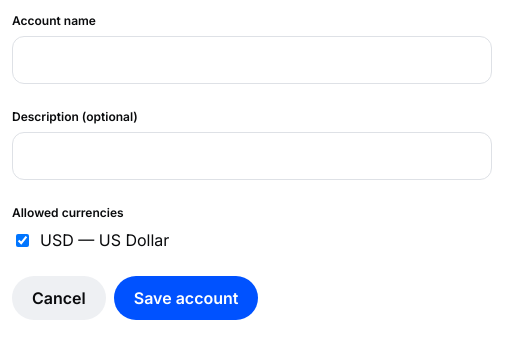
Test: AccountForm › requires account name on submit
The image size is (509, 363).
Click the button "Save account" at [186, 298], box x1=114 y1=276 x2=258 y2=320
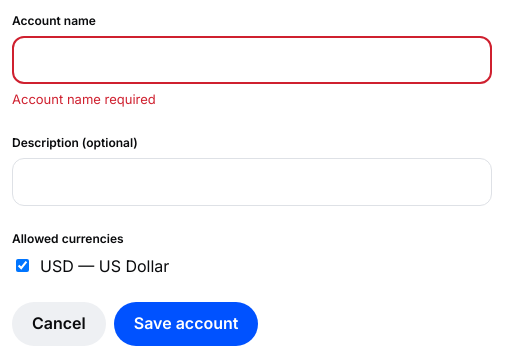
Expected: the text "Account name required" is shown, x1=12 y1=91 x2=156 y2=107
